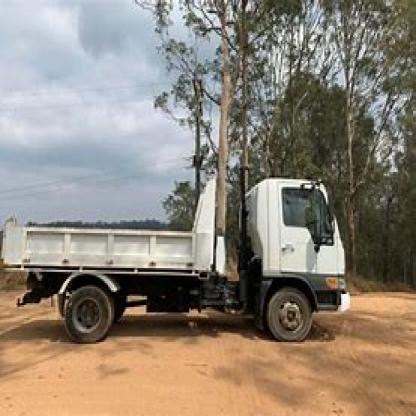dump_truck: (9, 165, 351, 346)
